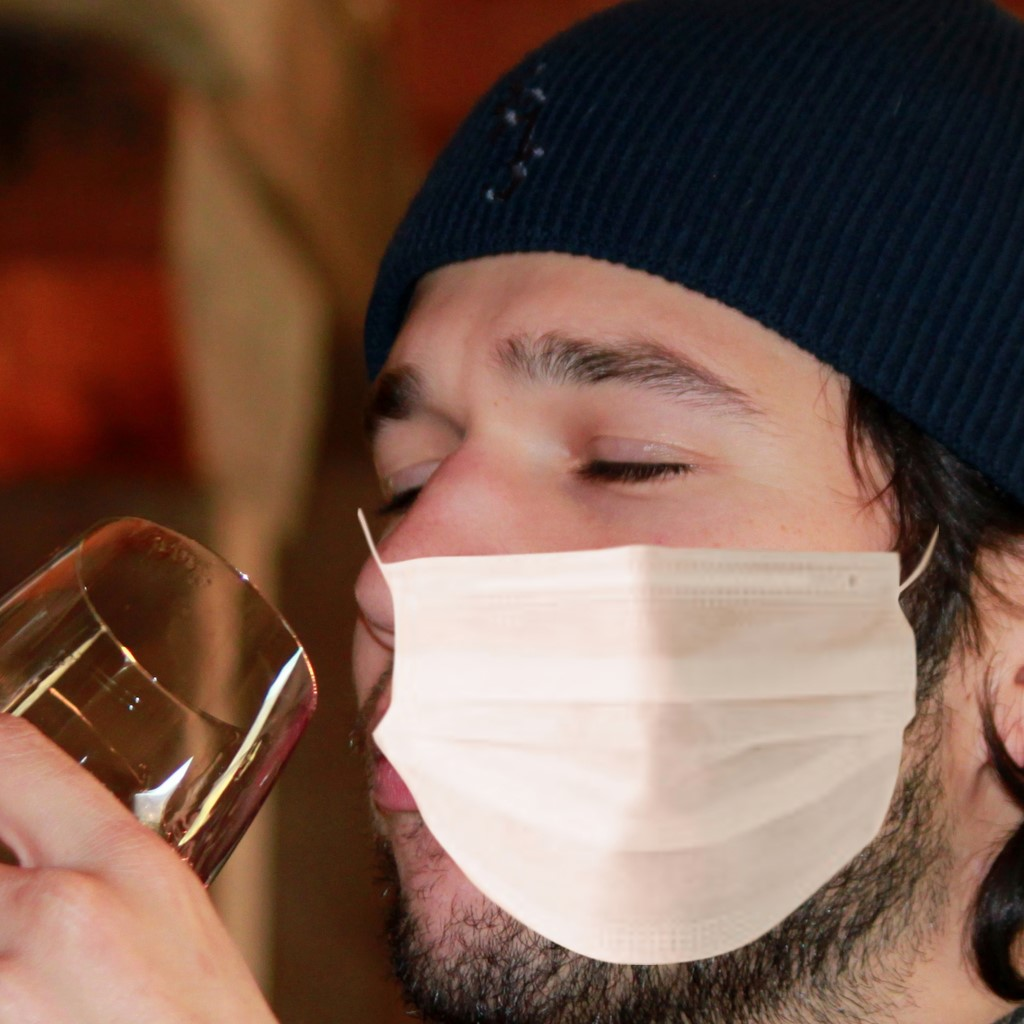con_mascara: (357, 237, 958, 1000)
